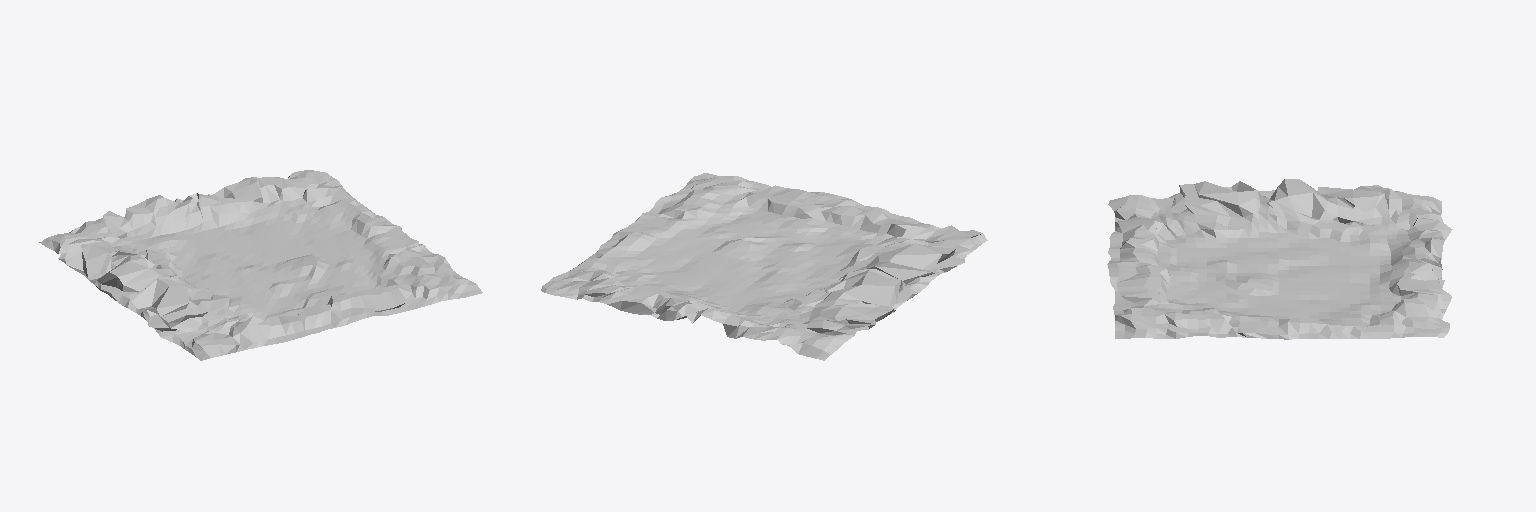
The model's file is terrainTest.obj.
The picture shows the model from 3 angles: view 1: azimuth 30°, elevation 25°; view 2: azimuth 150°, elevation 25°; view 3: azimuth 270°, elevation 25°; orthographic projection.
Parts seen in each view (by area): view 1: Plane; view 2: Plane; view 3: Plane.
Part boxes in pixels (x1,y1,x2,y2): Plane: (39,170,482,360); Plane: (541,173,987,360); Plane: (1107,179,1452,339).
Bounding box in the file's own units: 44.02 × 3.48 × 44.03.